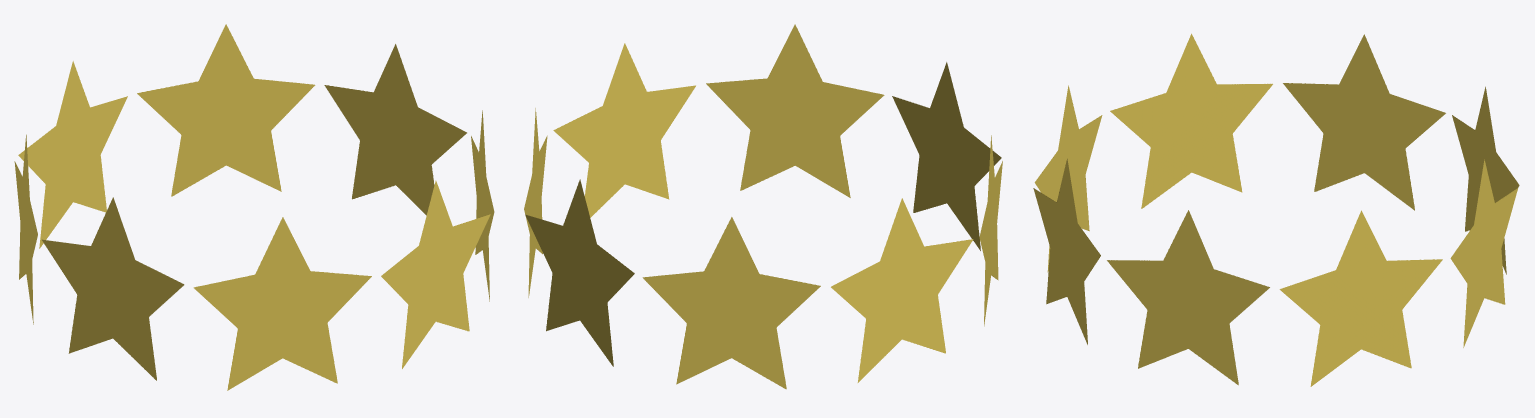
The model's file is stars-above-head.gltf.
3 renders of one model, left to right at view 1: azimuth 30°, elevation 25°; view 2: azimuth 150°, elevation 25°; view 3: azimuth 270°, elevation 25°, orthographic.
Visible parts, largest first — view 1: Cylinder; view 2: Cylinder; view 3: Cylinder.
Boxes of the visible parts, x1,y1,x2,y2 form: Cylinder: (14, 24, 494, 390); Cylinder: (524, 24, 1002, 389); Cylinder: (1033, 33, 1519, 386).
Size of the model in its own units: 0.5942 by 0.2461 by 0.5942.
1 material, 1 textured.
